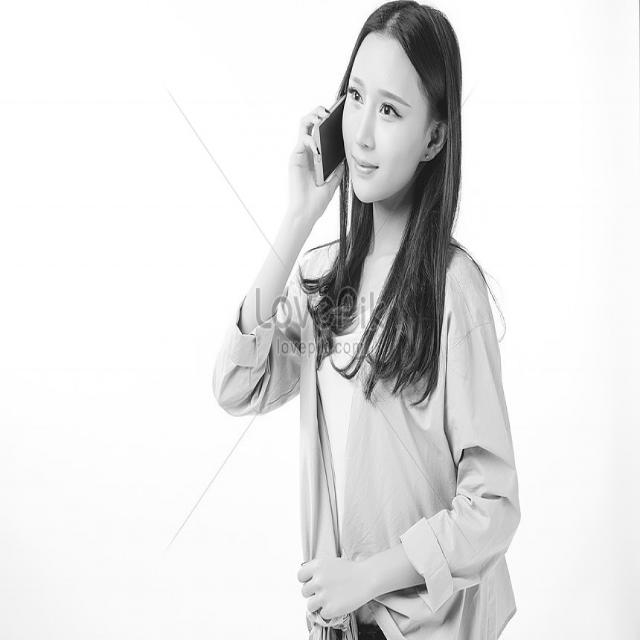phone: (290, 62, 372, 196)
